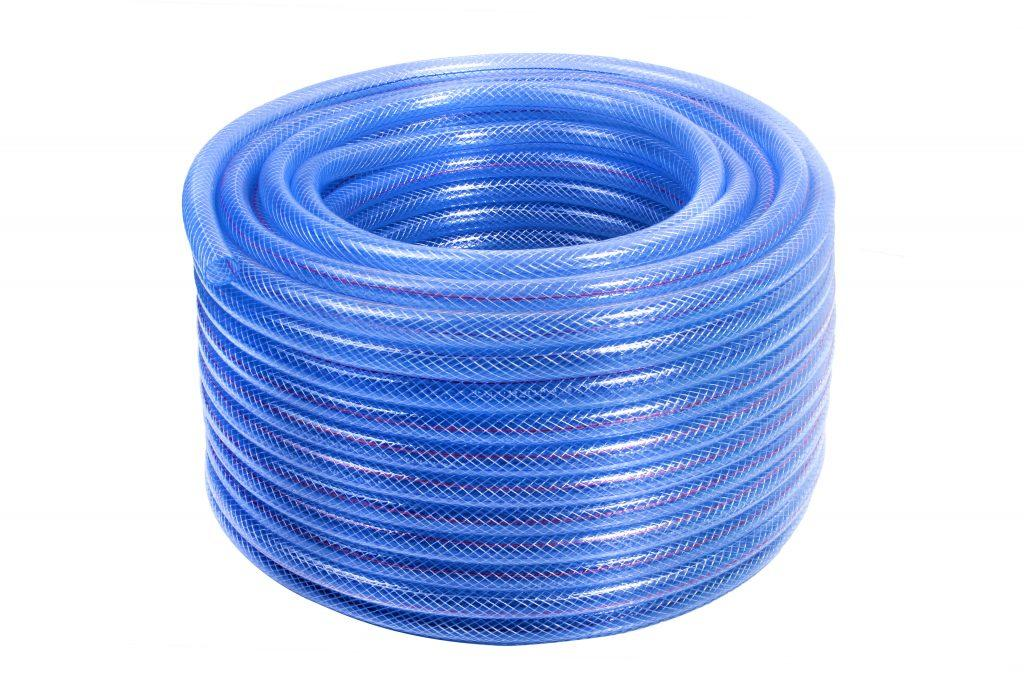PVC: (180, 49, 838, 646)
